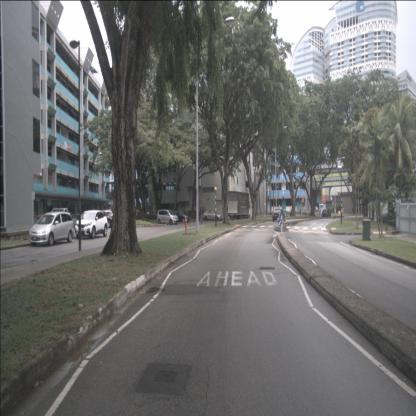vehicle-car: (28, 212, 75, 246), (75, 210, 108, 239), (88, 210, 115, 228), (156, 209, 179, 225), (169, 210, 191, 224), (201, 210, 222, 221), (272, 209, 286, 222), (322, 210, 331, 218)
